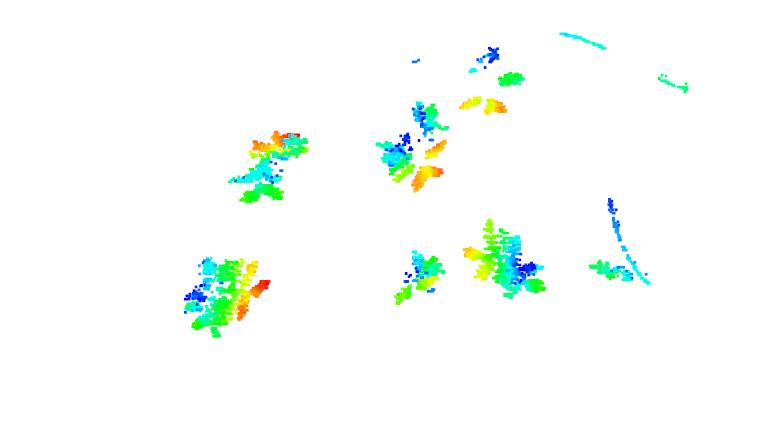chickpea: (166, 256, 269, 340), (224, 122, 311, 205), (374, 101, 451, 194), (464, 226, 549, 306), (460, 41, 524, 120), (386, 248, 449, 305), (586, 247, 644, 292)
